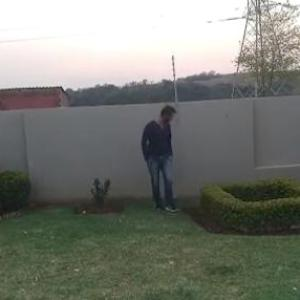follow: (138, 96, 177, 224)
